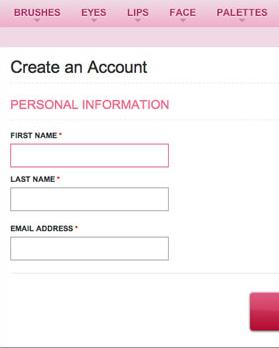field: (8, 185, 169, 212), (8, 142, 170, 168), (10, 235, 170, 261)
field_with_label: (6, 175, 172, 214), (6, 131, 170, 169), (8, 224, 171, 262)
